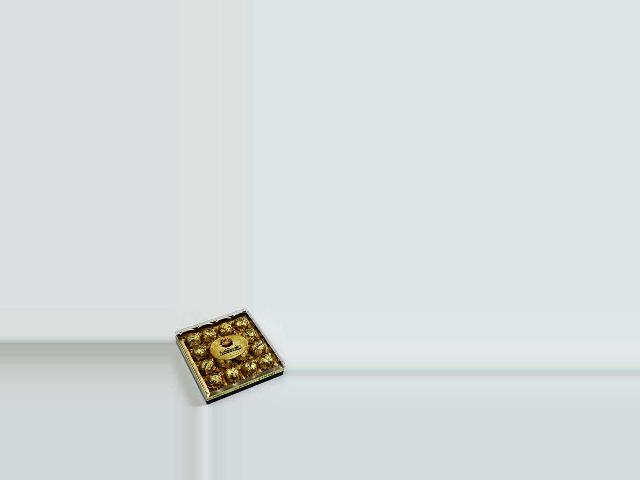chocolate: (174, 308, 286, 406)
